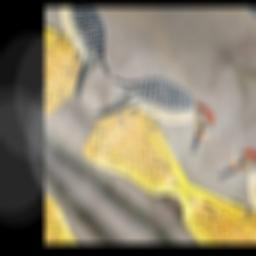Woodpecker: (84, 37, 233, 193)
